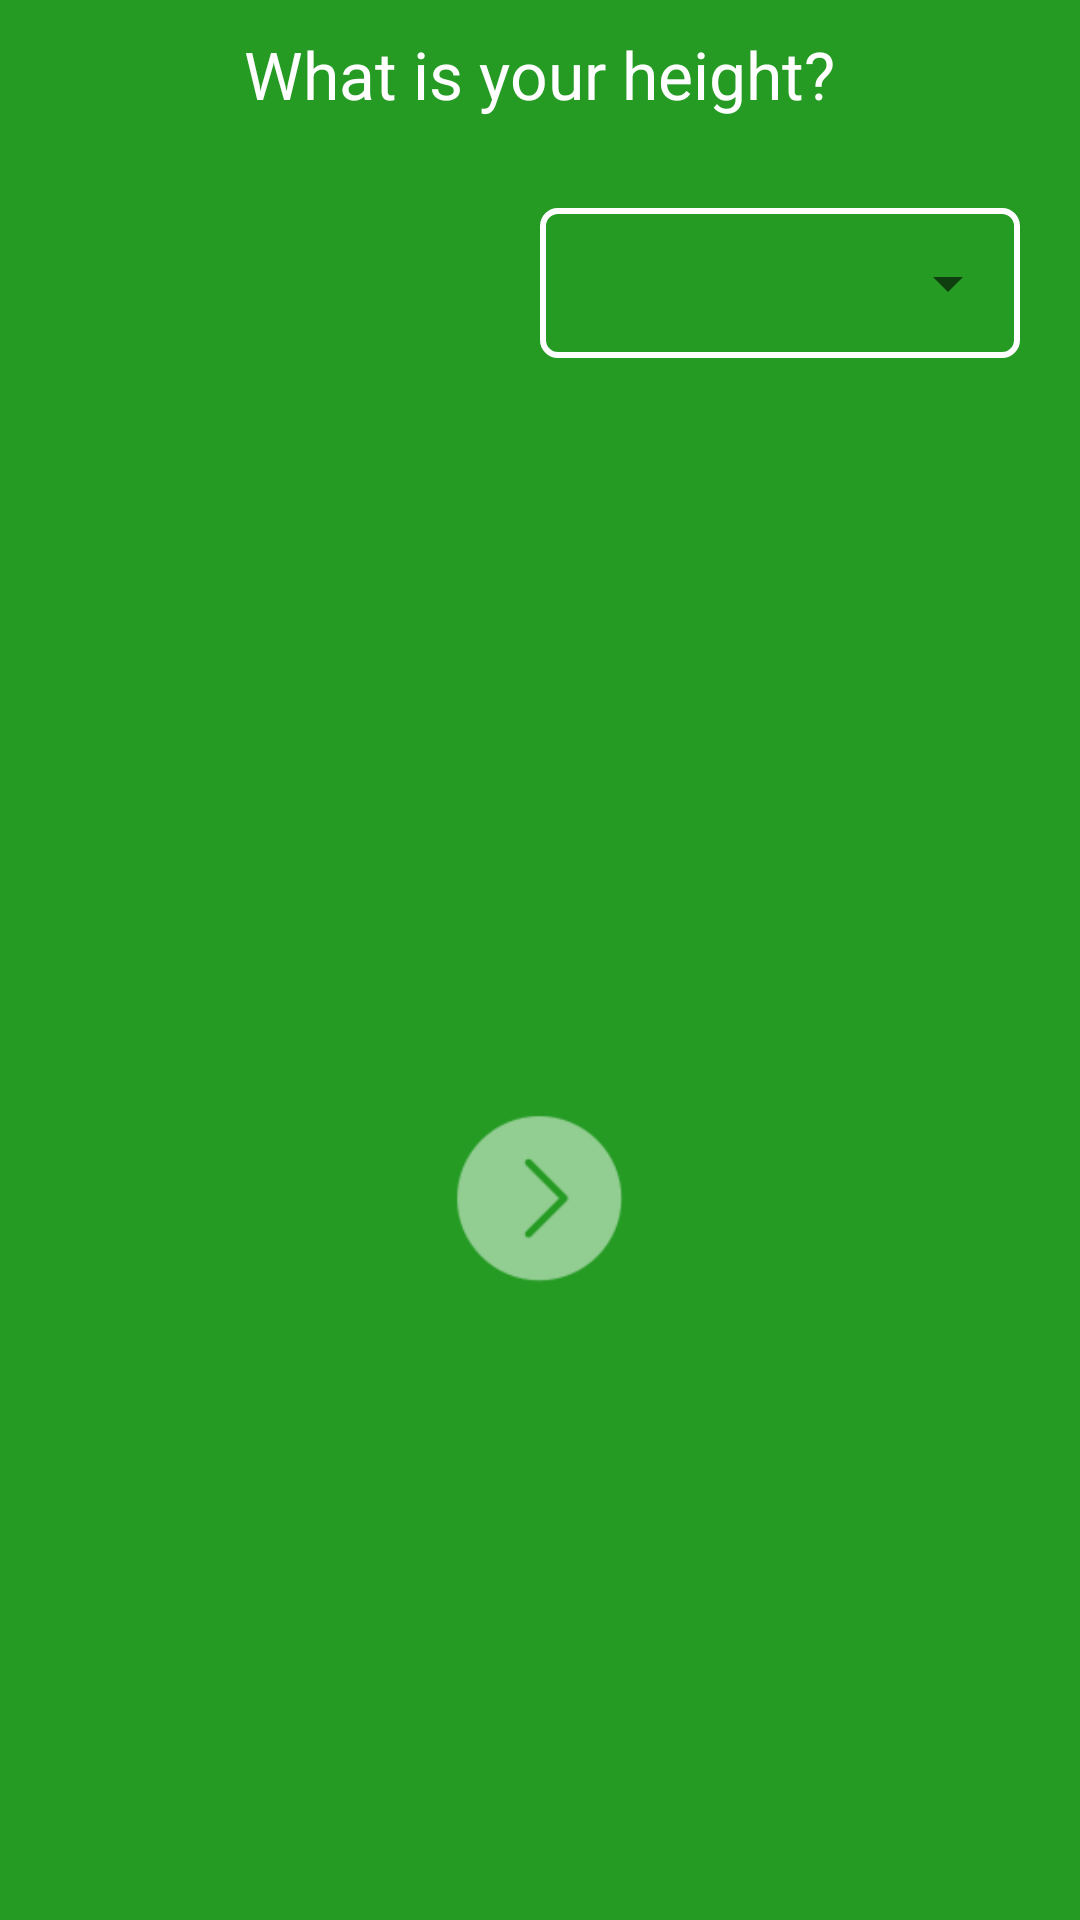

Named icons in this screenshot (1080 × 1920) and their bounding boxes, (x1, y1, x2, y2):
next page: (457, 1116, 622, 1281)
